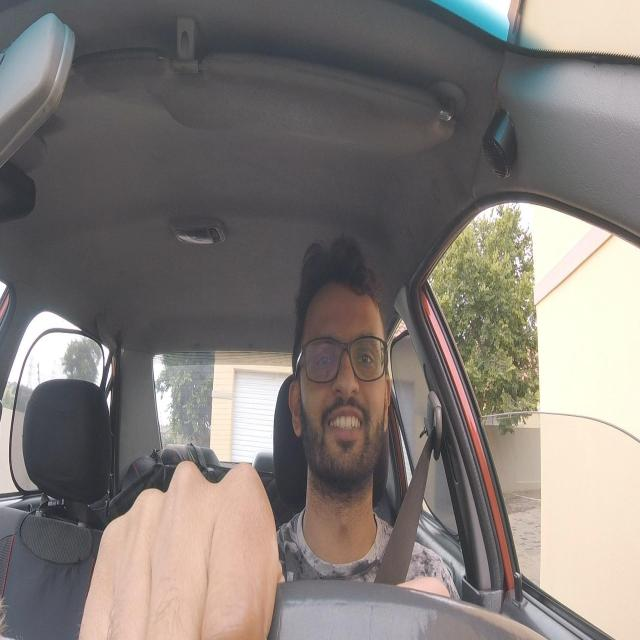open: (348, 330, 384, 386), (308, 327, 341, 381)
